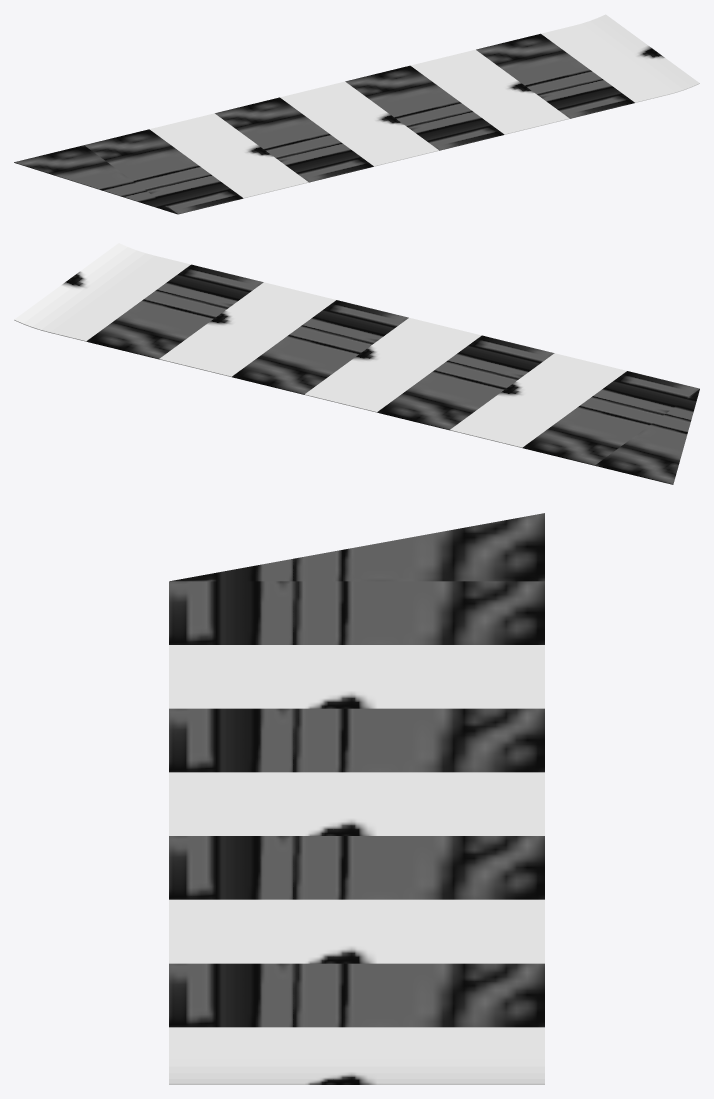
Rendered from Level 60 roll life buoy.fbx.
3 views of the same model, one above another, from view 1: azimuth 30°, elevation 25°; view 2: azimuth 150°, elevation 25°; view 3: azimuth 270°, elevation 25° (orthographic). The views are drawn at different scales.
Parts seen in each view (by area): view 1: Blend; view 2: Blend; view 3: Blend.
Part boxes in pixels (x1,y1,x2,y2): Blend: (14,14,699,214); Blend: (14,243,699,484); Blend: (169,513,544,1084).
Size of what is drawn, in the model's own units: 1090 by 7.06 by 300.
